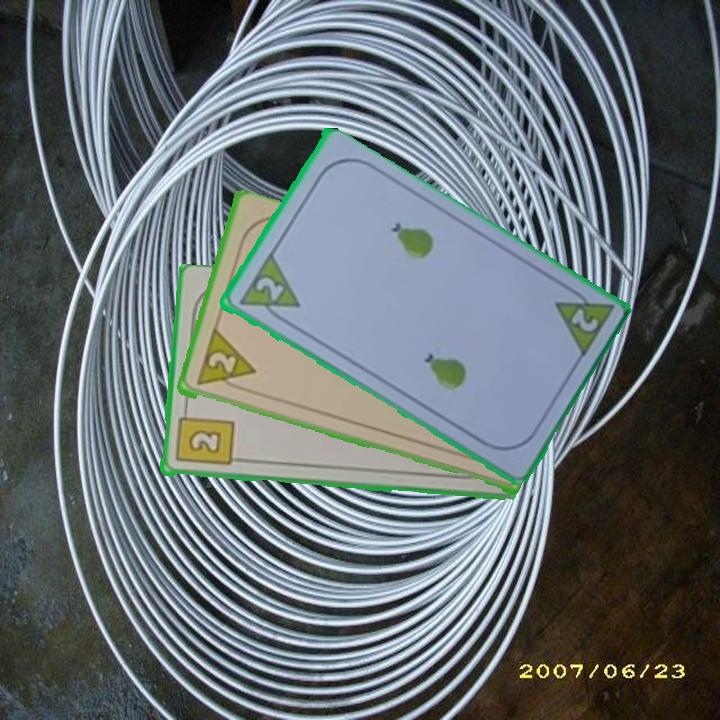2b: (172, 404, 235, 469)
2p: (251, 273, 286, 305), (566, 305, 601, 335), (204, 348, 239, 377)
